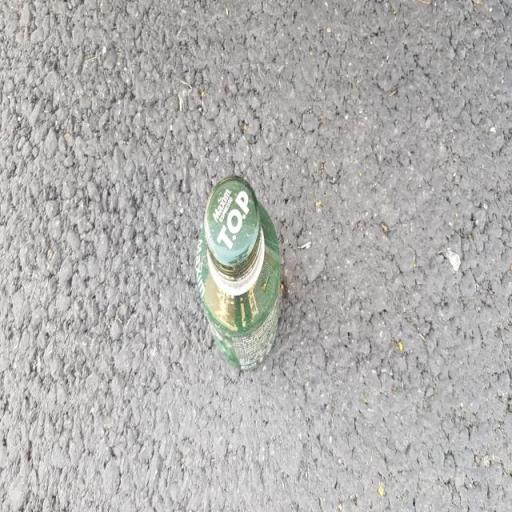metal: (174, 156, 319, 419)
